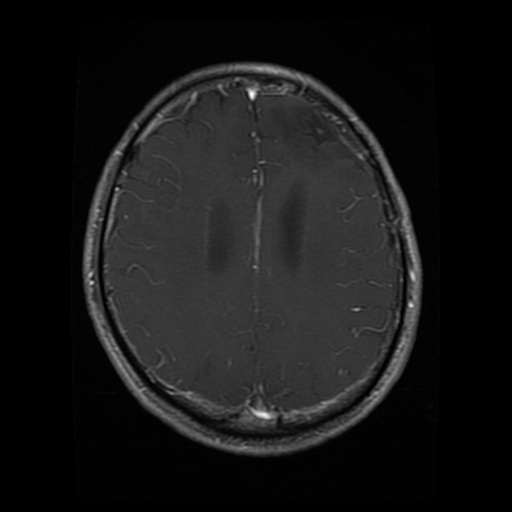glioma: (273, 105, 353, 164)
